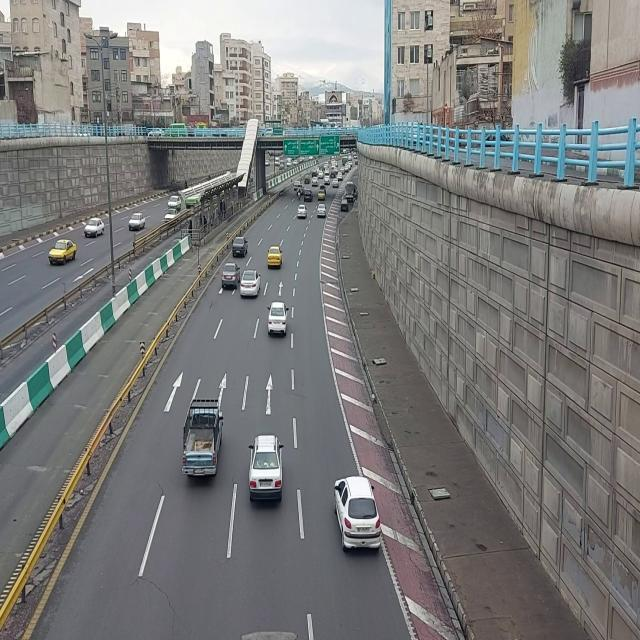Car: (333, 474, 385, 559), (247, 433, 286, 512), (268, 296, 292, 342), (48, 239, 78, 267), (240, 270, 262, 298), (221, 262, 241, 290), (267, 246, 285, 272), (84, 216, 104, 239), (232, 235, 248, 259), (129, 211, 145, 233), (164, 207, 180, 223), (167, 196, 183, 209), (296, 204, 308, 220), (317, 203, 327, 219), (303, 188, 313, 202), (340, 199, 348, 213), (317, 190, 325, 201), (324, 176, 332, 186), (332, 178, 339, 189), (304, 176, 312, 185), (312, 176, 319, 186), (311, 168, 318, 178), (337, 171, 343, 181), (318, 169, 324, 179), (293, 180, 297, 192)
Motorcycle: (183, 180, 189, 192), (298, 187, 302, 201)
Pickup: (182, 393, 226, 486)
